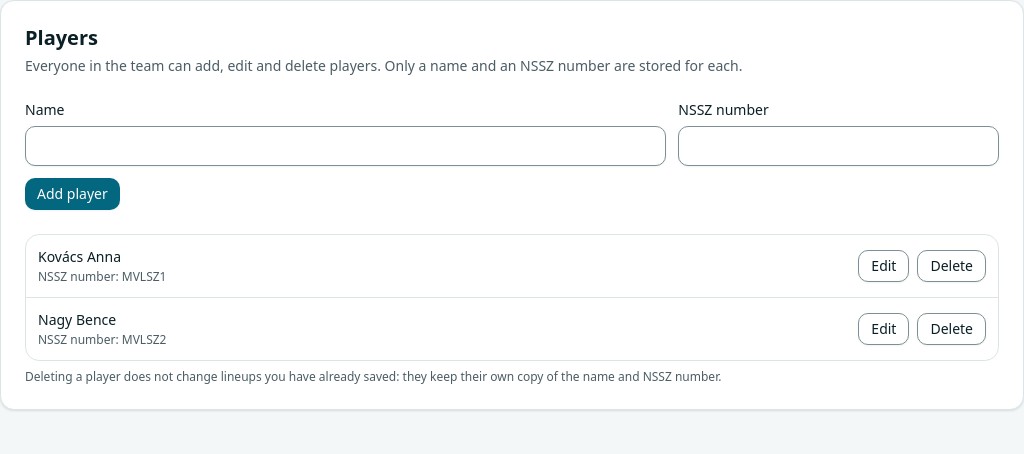
Scenario: adding › shows a server 422 on the field it names and keeps the input
expect the text "Kovács Anna" is shown: met, box [38,247,121,266]
In the field labelled "Name": (346, 146) [25,126,666,166], type "Kiss Csaba"
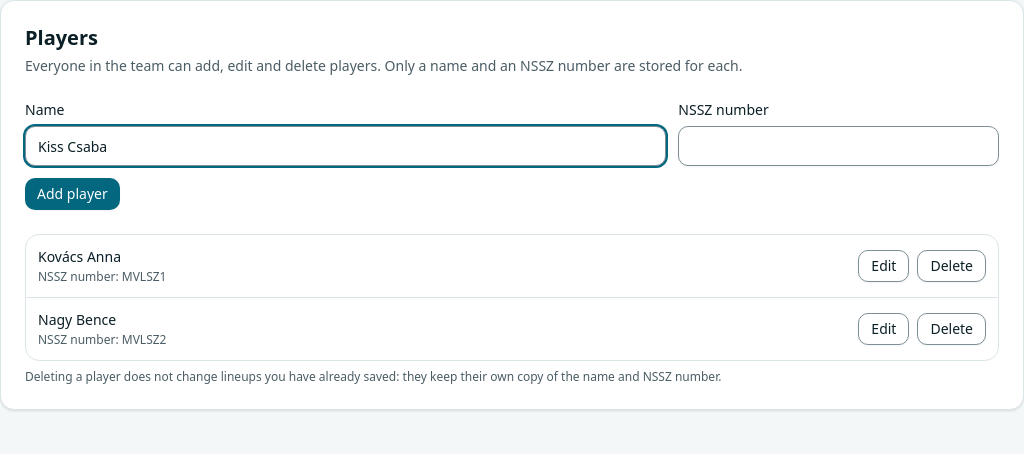
In the field labelled "NSSZ number": (839, 146) [678,126,999,166], type "MVLSZ3"
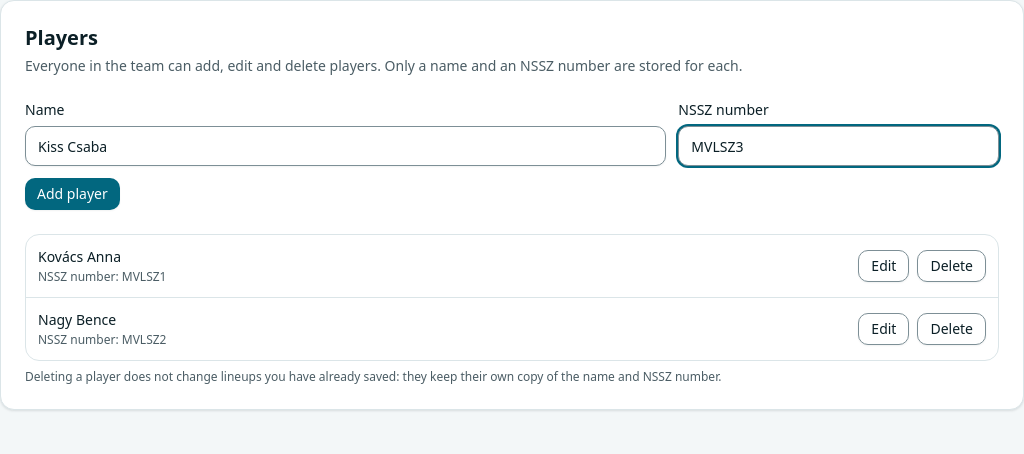
Click the button "Add player": (72, 194) [25,178,120,210]
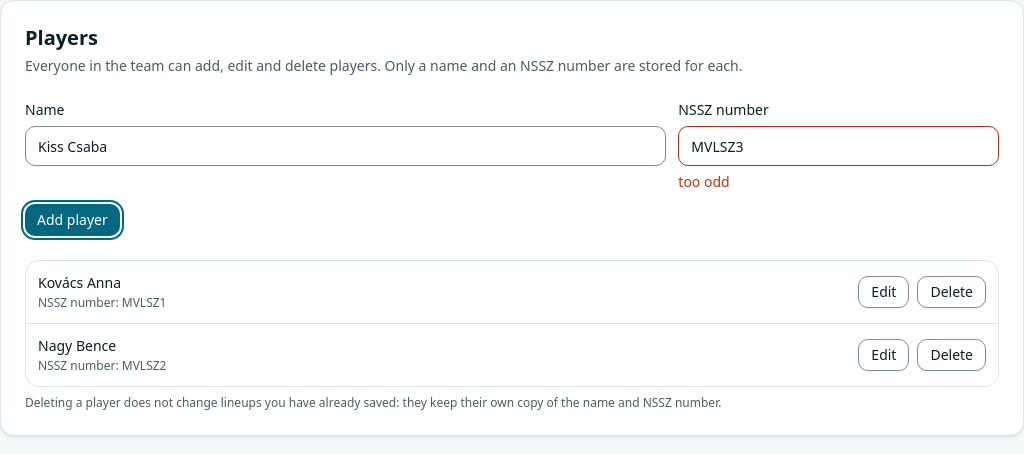
expect the text "too odd" is shown: met, box [678,172,730,191]
